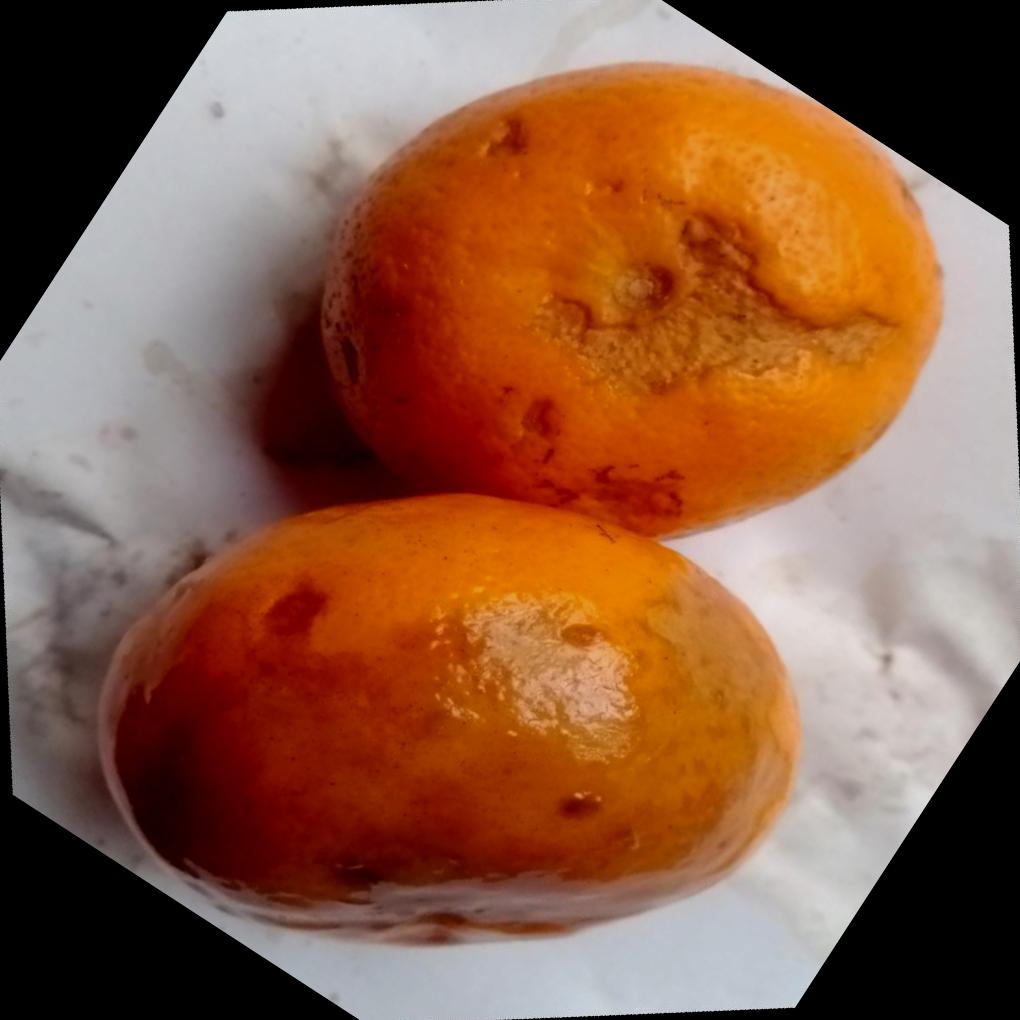FreshOrange: (88, 57, 943, 948)
